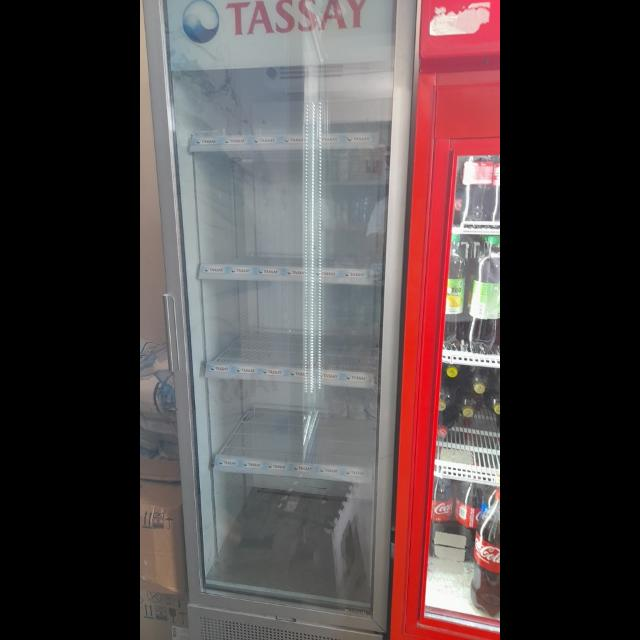Cooling-Display: (142, 1, 416, 640)
